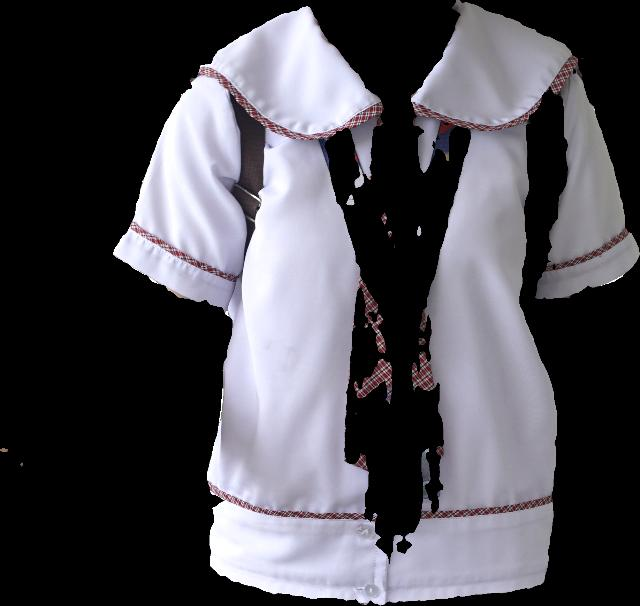pologirl: (114, 0, 639, 605)
